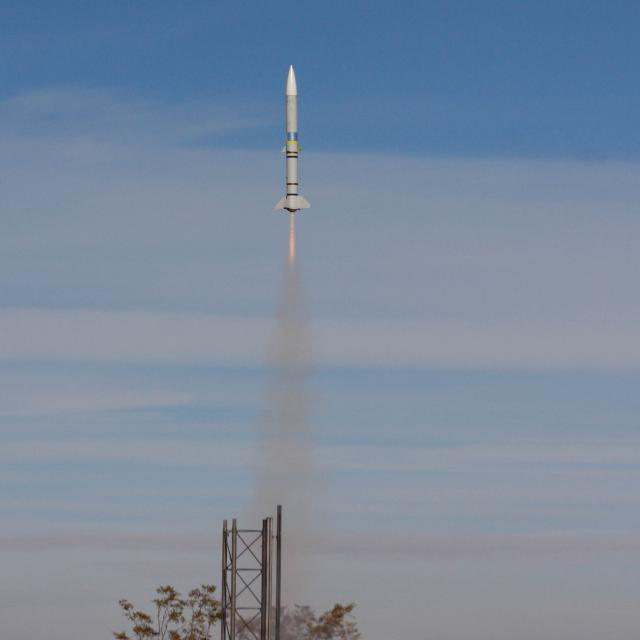Rocket: (273, 64, 312, 212)
